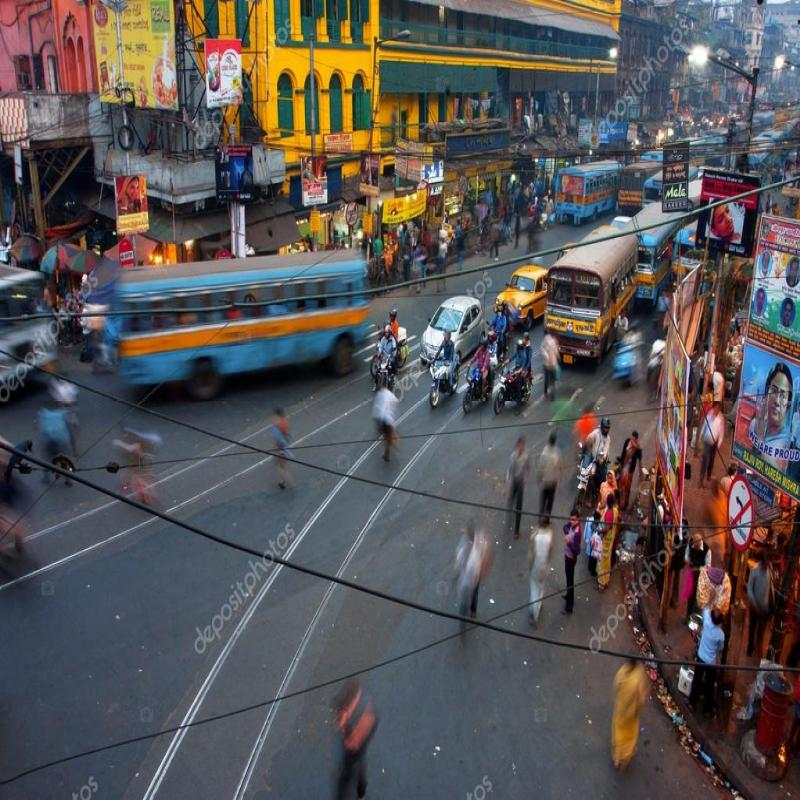bus: (89, 265, 394, 391), (549, 228, 647, 344)
car: (415, 288, 483, 360), (493, 266, 544, 336)
